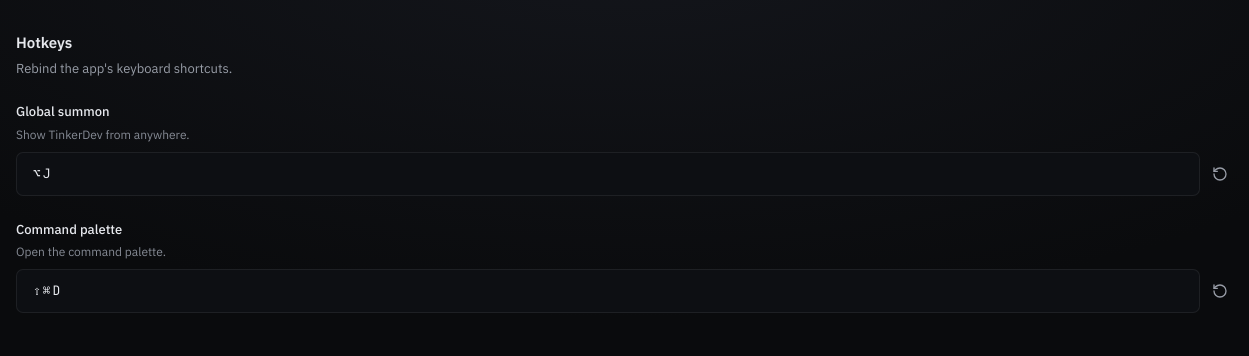
it: HotkeysSettings — reset-path collision guard (T-24-07) › resetting Global summon onto the current palette chord is rejected and persists nothing
The width and height of the screenshot is (1249, 356).
What coordinates should you click on to do the following:
click the button named "Reset Global summon to default"
I would click on:
 (1220, 174)
Its box is [1208,162,1232,186].
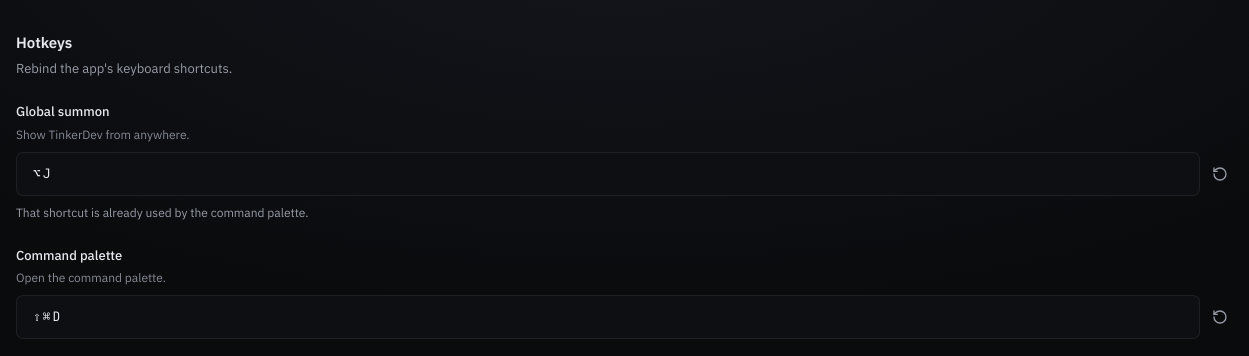
Expected: the text "That shortcut is already used by the command palette." is shown, [16,204,308,220]
